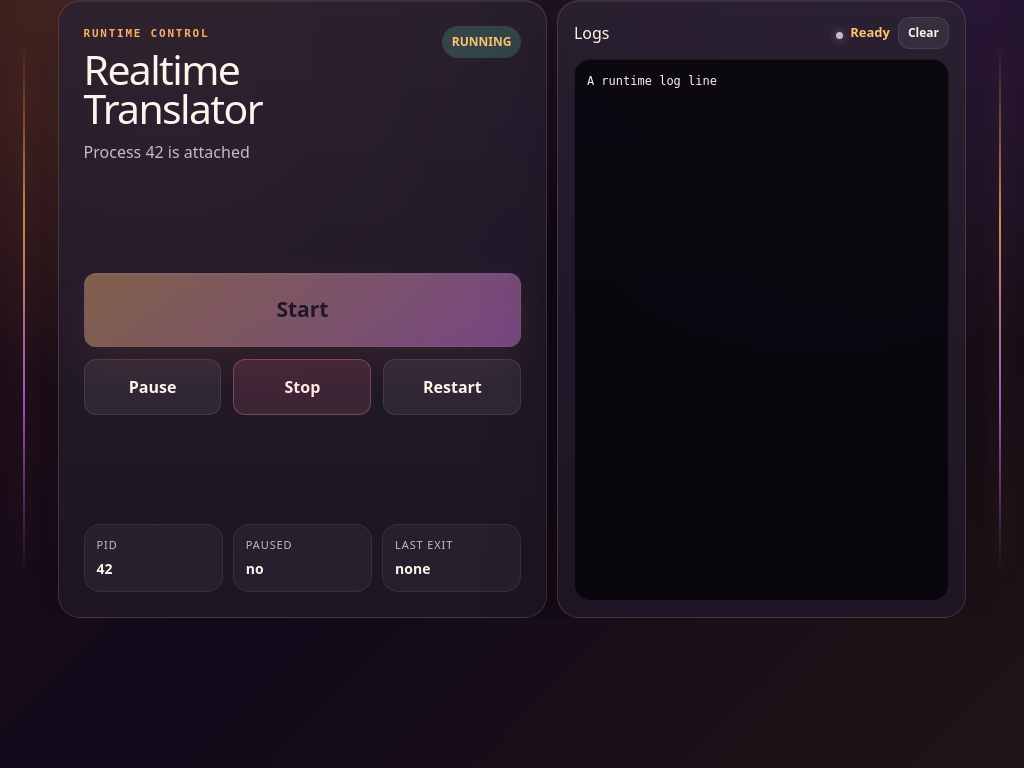
Test: ControlPage logs › shows the runtime phase and clears only visible log lines
expect the text "Ready" is shown: met, box x1=836 y1=23 x2=890 y2=43
expect the text "A runtime log line" is shown: met, box x1=587 y1=74 x2=717 y2=88
Click the button "Clear" at point(923, 33), box x1=898 y1=17 x2=949 y2=49
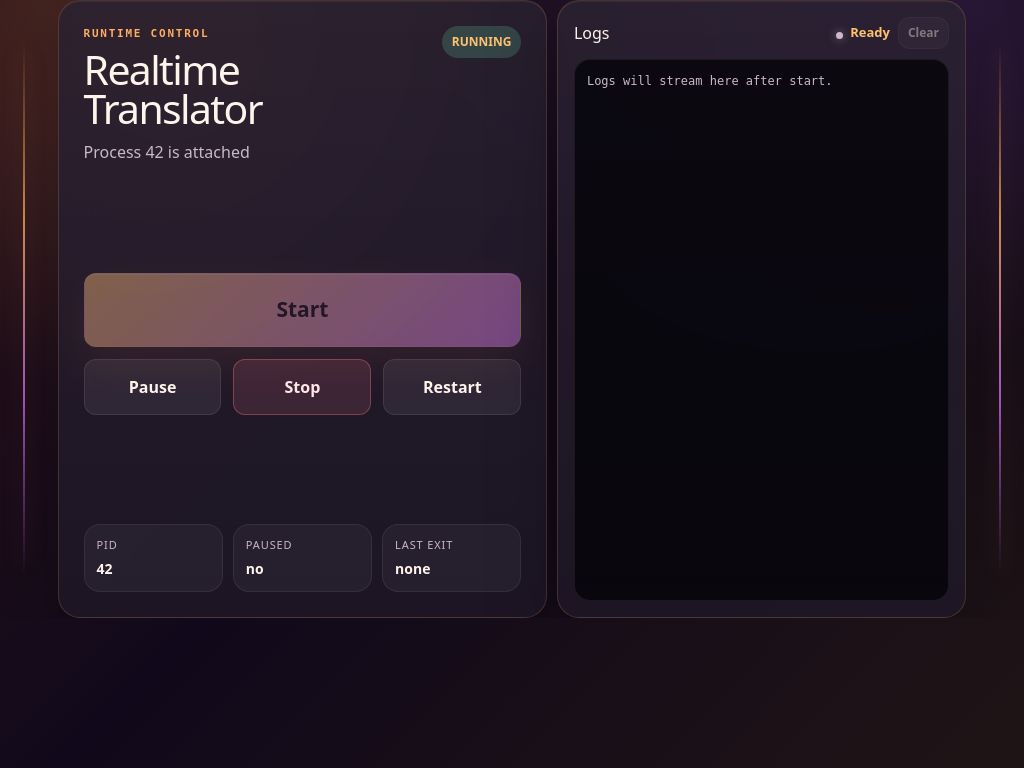
expect the text "Ready" is shown: met, box x1=836 y1=23 x2=890 y2=43
expect the text "A runtime log line" is gone: met
